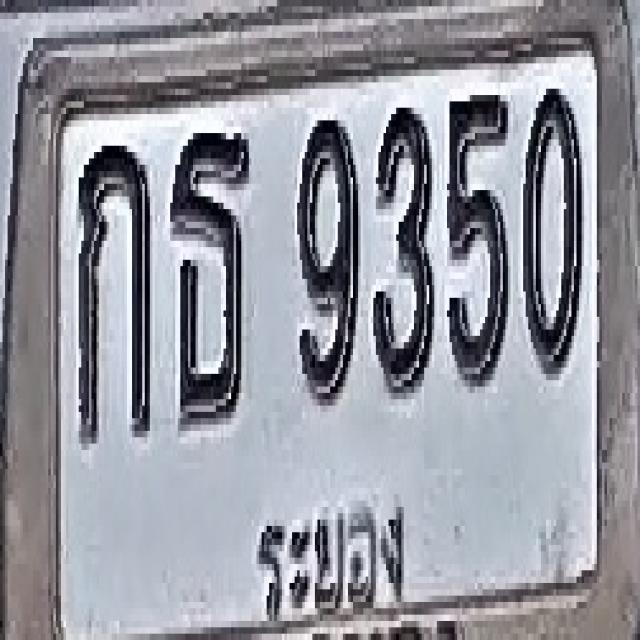0: (522, 79, 583, 371)
3: (372, 101, 433, 393)
5: (447, 85, 508, 384)
9: (297, 111, 358, 402)
A01: (78, 137, 151, 440)
A24: (169, 126, 250, 424)
RYG: (246, 490, 415, 640)
